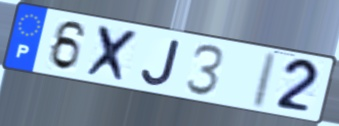2: (270, 58, 325, 117)
3: (184, 43, 227, 97)
6: (46, 19, 87, 73)
I: (248, 50, 281, 111)
J: (140, 37, 183, 88)
X: (83, 23, 143, 85)
